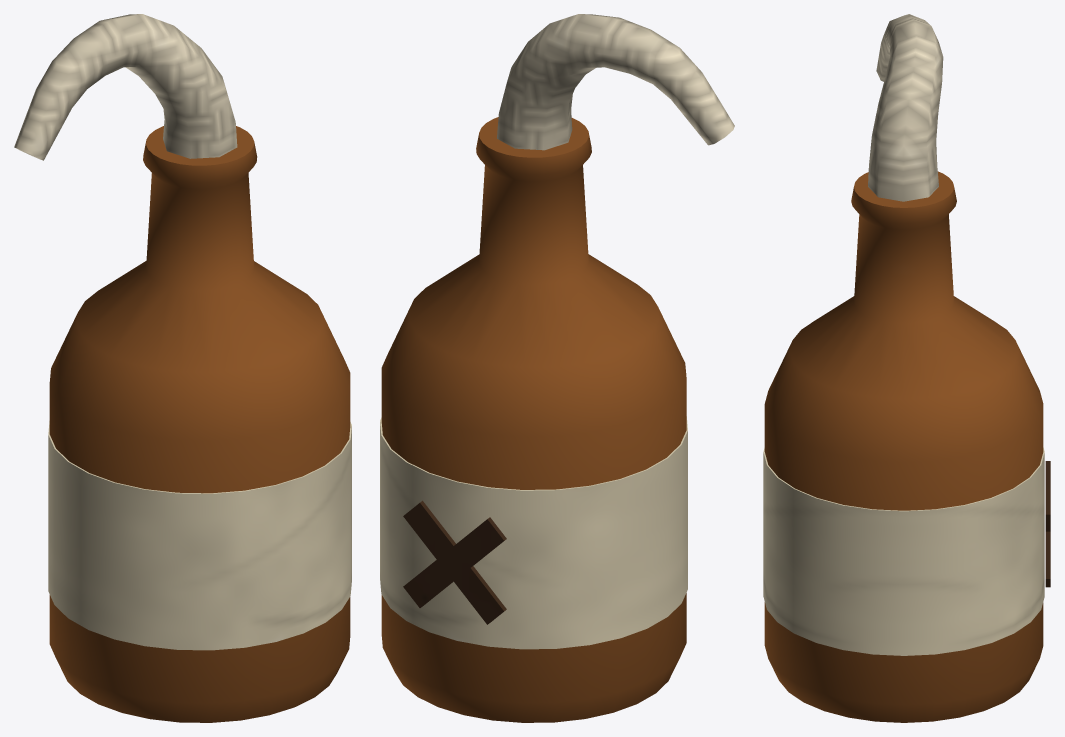
The model's file is FlameMine.fbx.
3 renders of one model, left to right at view 1: azimuth 30°, elevation 25°; view 2: azimuth 150°, elevation 25°; view 3: azimuth 270°, elevation 25°, orthographic. The views are drawn at different scales.
Visible parts, largest first — view 1: FlameMine; view 2: FlameMine; view 3: FlameMine.
Boxes of the visible parts, x1,y1,x2,y2 form: FlameMine: (14,14,351,722); FlameMine: (380,14,734,722); FlameMine: (763,14,1050,722).
Bounding box in the file's own units: 0.271 × 0.5321 × 0.2268.
4 materials, 4 textured.
